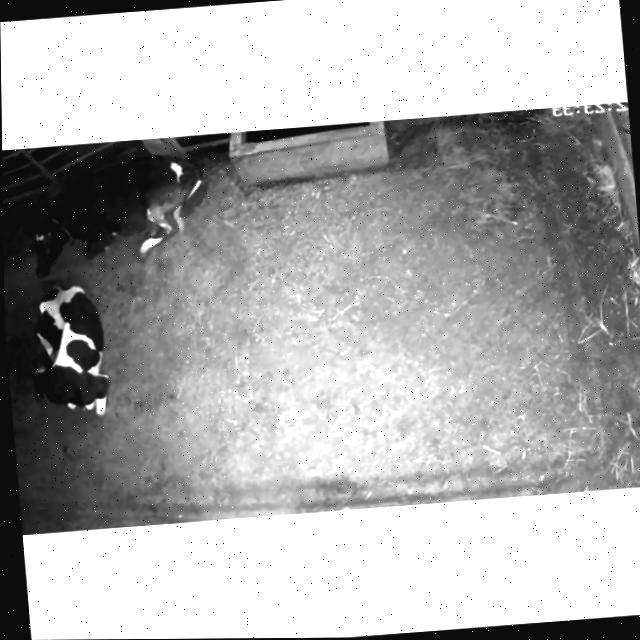lay: (5, 141, 226, 278), (6, 270, 129, 437)
